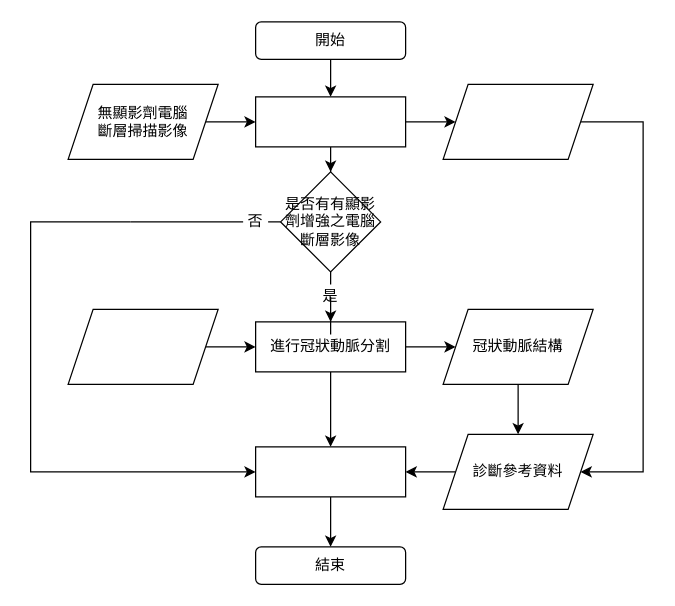
This 675x606 diagram has some shape labels left out. The shapes that lost their labels are listed below. From the top down, each one's box as (x1, y1, x2, y2) in pixels, then its label:
(254, 96, 406, 147): 標註鈣化位置
(442, 83, 593, 159): 鈣化位置
(67, 308, 218, 384): 有顯影劑電腦 斷層掃描影像
(254, 446, 406, 497): 進行診斷
